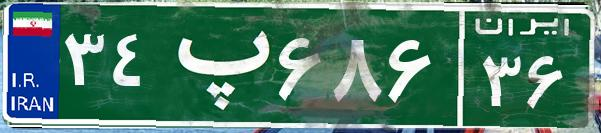3: (57, 26, 110, 107), (475, 38, 525, 113)
4: (110, 28, 158, 105)
6: (385, 28, 445, 110), (273, 28, 330, 110), (525, 38, 570, 115)
8: (330, 28, 385, 110)
پ: (158, 15, 273, 115)
